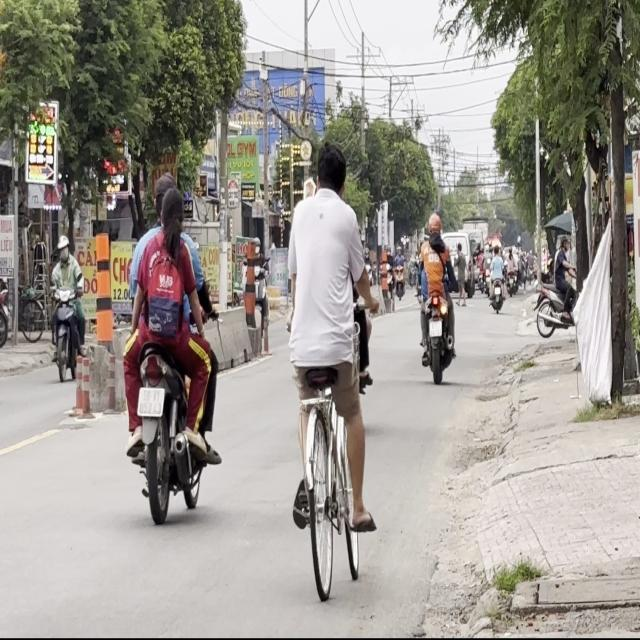licenseplate: (120, 167, 220, 522)
motorcyclist: (158, 187, 184, 239), (154, 172, 179, 200)
nohelmet: (138, 387, 164, 417)
